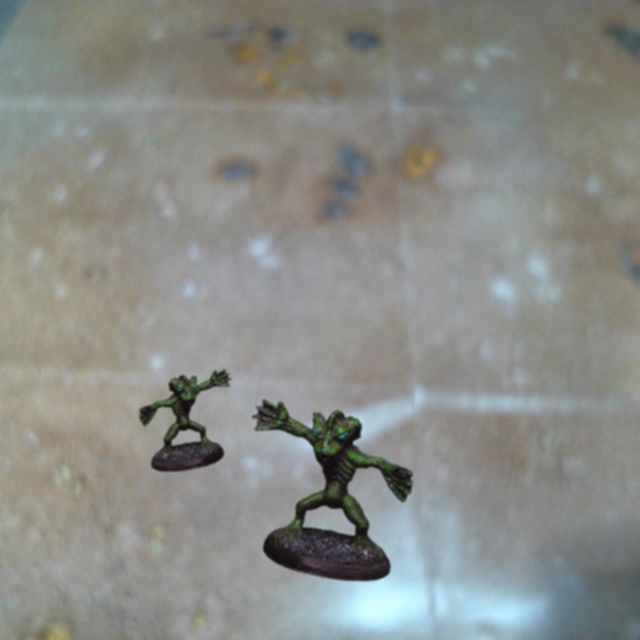pieza_juego: (252, 399, 412, 580), (139, 369, 231, 471)
